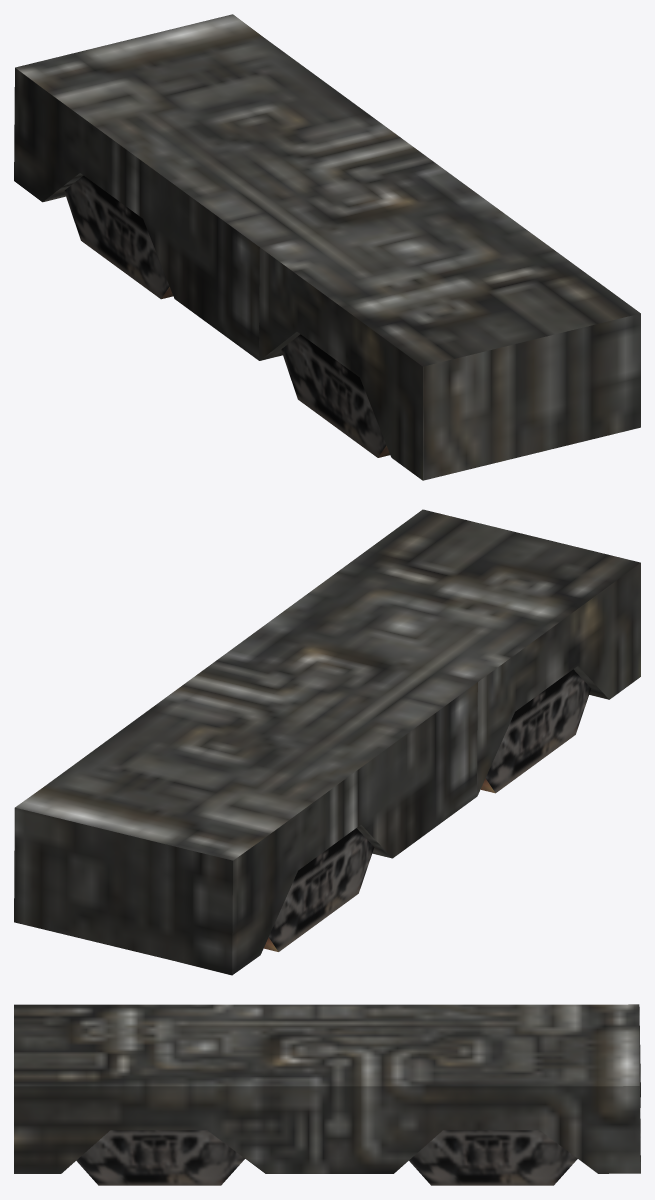
Rendered from train_wagon.fbx.
The picture shows the model from 3 angles, top to bottom: view 1: azimuth 30°, elevation 25°; view 2: azimuth 150°, elevation 25°; view 3: azimuth 270°, elevation 25°; orthographic projection. The views are drawn at different scales.
Parts seen in each view (by area): view 1: train, wheels.001, wheels; view 2: train, wheels, wheels.001; view 3: train, wheels.001, wheels.
Part boxes in pixels (x1,y1,x2,y2): train: (14, 14, 640, 480); wheels.001: (64, 175, 173, 299); wheels: (281, 334, 389, 457); train: (14, 509, 640, 975); wheels: (480, 669, 591, 793); wheels.001: (263, 828, 374, 951); train: (14, 1004, 640, 1173); wheels.001: (409, 1130, 577, 1185); wheels: (76, 1130, 244, 1185).
Size of the model in its own units: 200 by 118 by 649.
